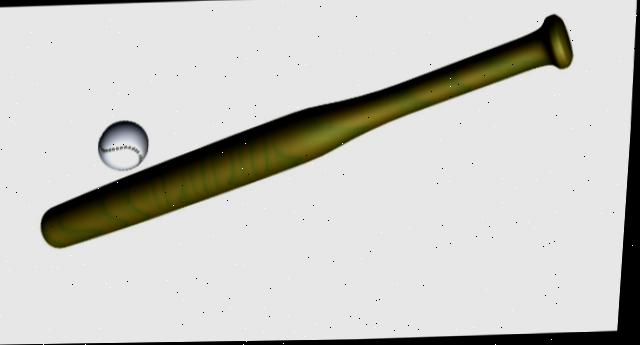baseball bat: (154, 13, 579, 241)
